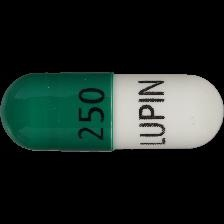10544-021: (0, 0, 224, 224)
